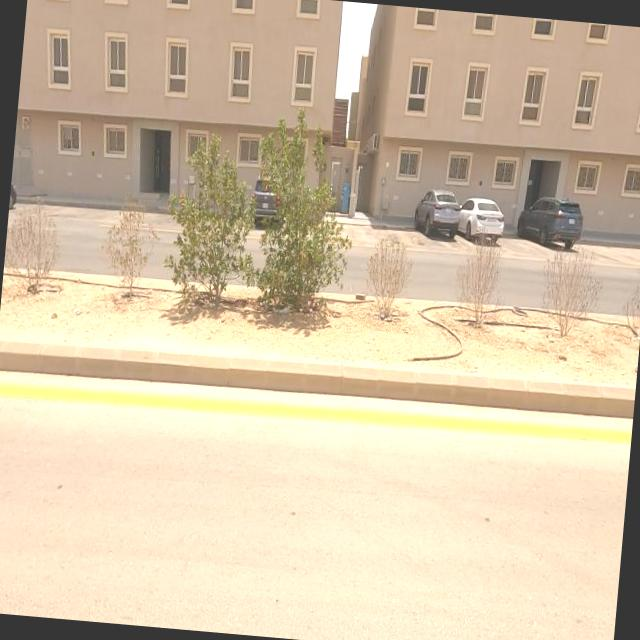debris: (344, 229, 626, 412)
